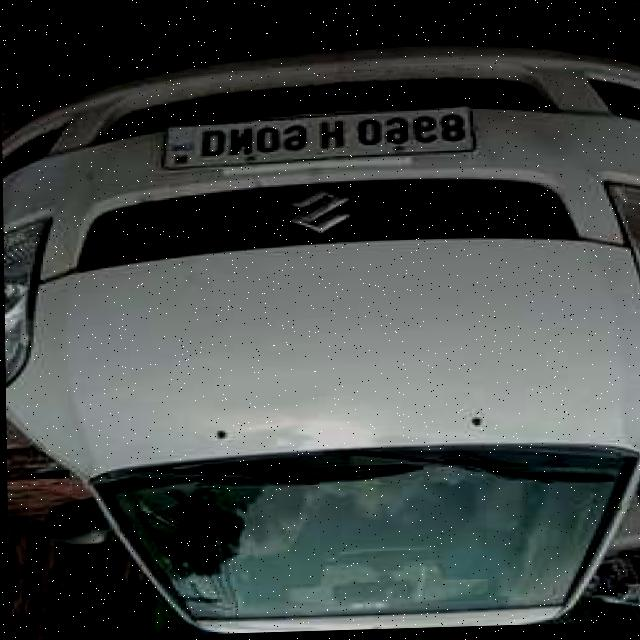plate: (161, 103, 475, 175)
